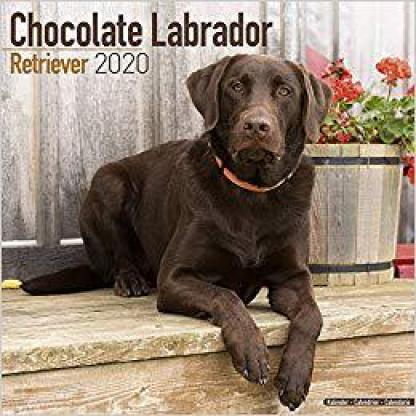dog: (31, 57, 335, 404)
